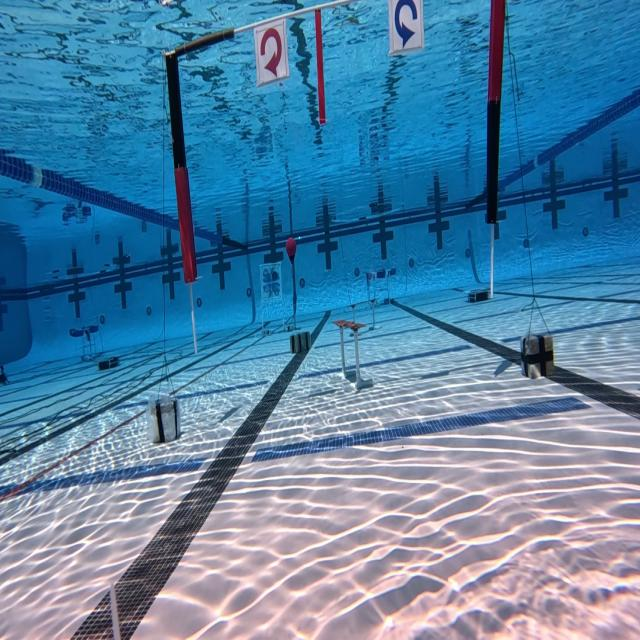blue_side: (387, 0, 424, 50)
red_side: (251, 15, 290, 83)
